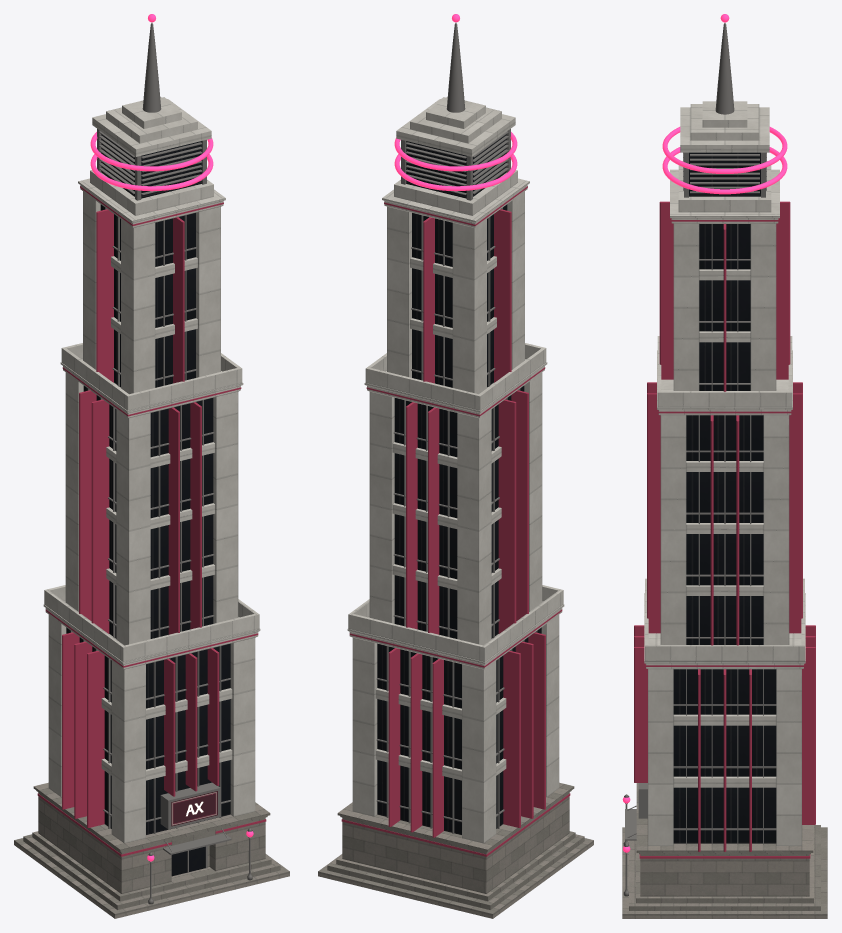
Rendered from s09-astrological-x.glb.
The picture shows the model from 3 angles, left to right: view 1: azimuth 30°, elevation 25°; view 2: azimuth 150°, elevation 25°; view 3: azimuth 270°, elevation 25°; orthographic projection.
Visible parts, largest first — view 1: Landmark · Astrological.X (Series 9); view 2: Landmark · Astrological.X (Series 9); view 3: Landmark · Astrological.X (Series 9).
Boxes of the visible parts, left/top/right/bottom form: Landmark · Astrological.X (Series 9): left=14, top=14, right=289, bottom=918; Landmark · Astrological.X (Series 9): left=318, top=14, right=593, bottom=918; Landmark · Astrological.X (Series 9): left=622, top=14, right=827, bottom=918.
Size of the model in its own units: 12 by 55.5 by 12.
Materials: 7 (4 with a texture image).
